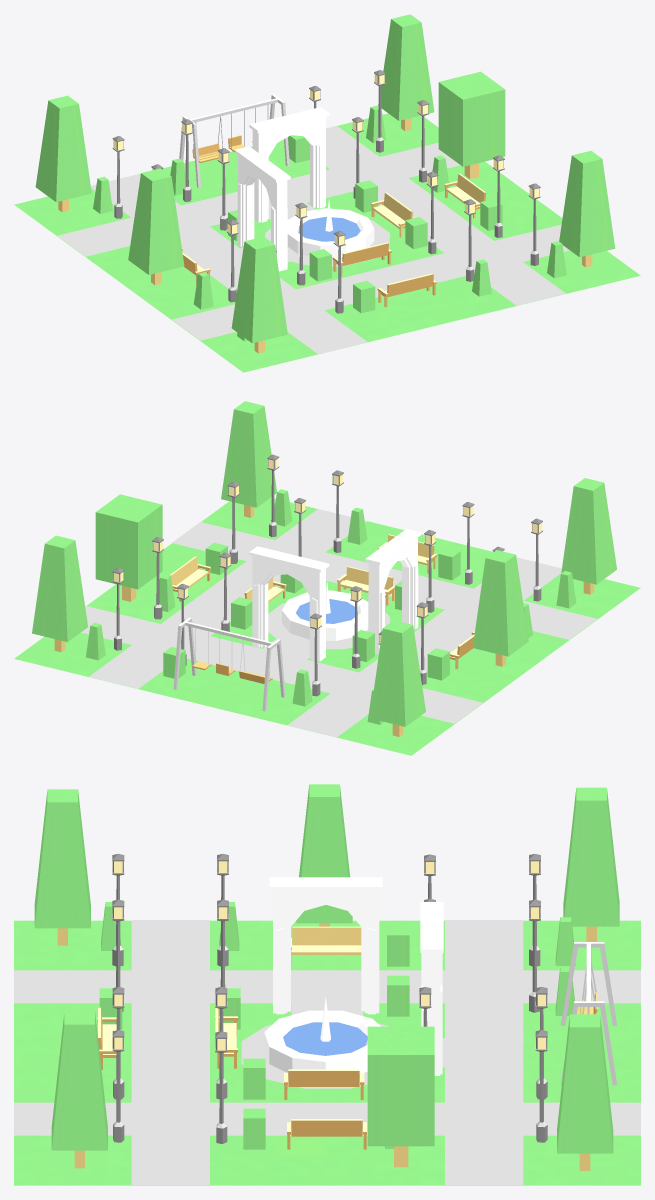
3 views of the same model, one above another, from view 1: azimuth 30°, elevation 25°; view 2: azimuth 150°, elevation 25°; view 3: azimuth 270°, elevation 25° (orthographic). The views are drawn at different scales.
Visible parts, largest first — view 1: park.007; view 2: park.007; view 3: park.007.
Boxes of the visible parts, x1,y1,x2,y2 form: park.007: [14, 14, 640, 372]; park.007: [14, 401, 640, 755]; park.007: [14, 784, 640, 1185].
Bounding box in the file's own units: 16 × 4.85 × 16.
1 material, 1 textured.
